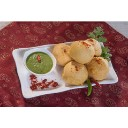bonda: (64, 61, 88, 85), (70, 41, 94, 64), (88, 58, 110, 80), (53, 43, 74, 64)
